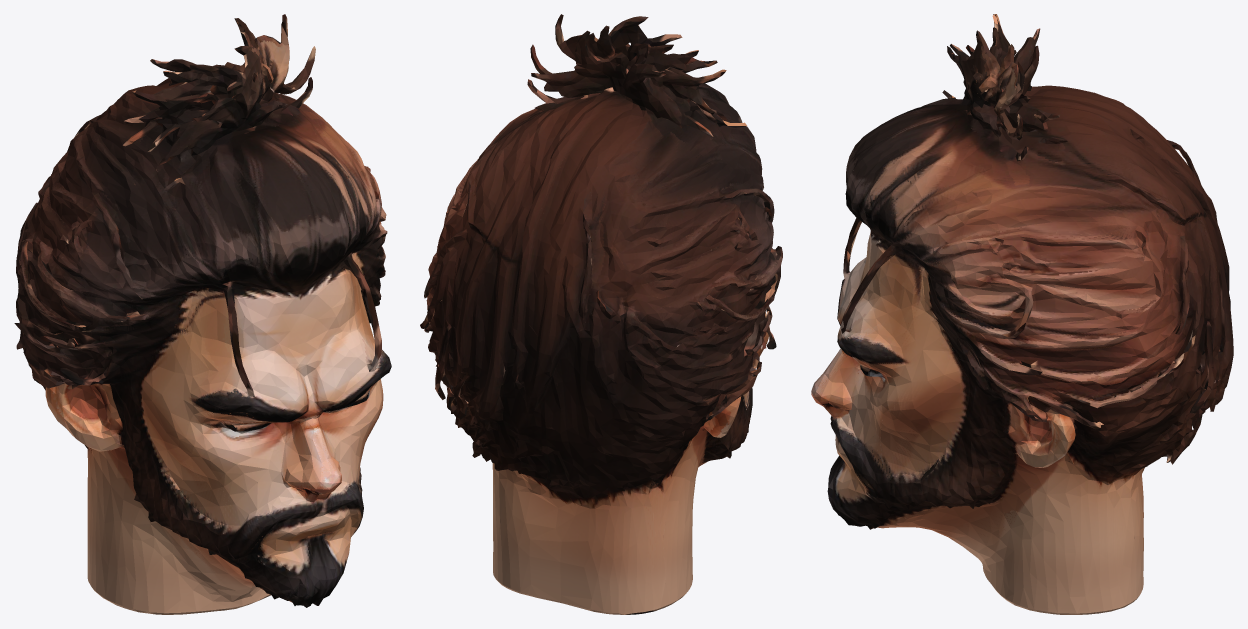
The model's file is side_zhang_repaired_atlas.glb.
The picture shows the model from 3 angles, left to right: view 1: azimuth 30°, elevation 25°; view 2: azimuth 150°, elevation 25°; view 3: azimuth 270°, elevation 25°; orthographic projection. The views are drawn at different scales.
Visible parts, largest first — view 1: temp_mesh.ply; view 2: temp_mesh.ply; view 3: temp_mesh.ply.
Boxes of the visible parts, <box> form: temp_mesh.ply: <box>14,14,391,614</box>; temp_mesh.ply: <box>420,14,782,614</box>; temp_mesh.ply: <box>811,14,1233,614</box>.
Bounding box in the file's own units: 0.9055 × 1.44 × 1.02.
Materials: 1 (1 with a texture image).
